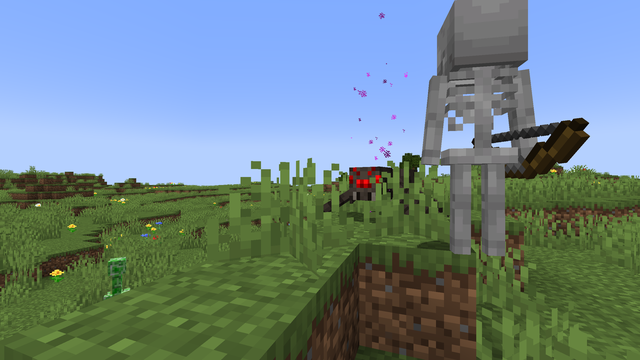araignees: (331, 160, 427, 223)
creepers: (103, 254, 130, 295)
squelettes: (434, 2, 534, 268)
